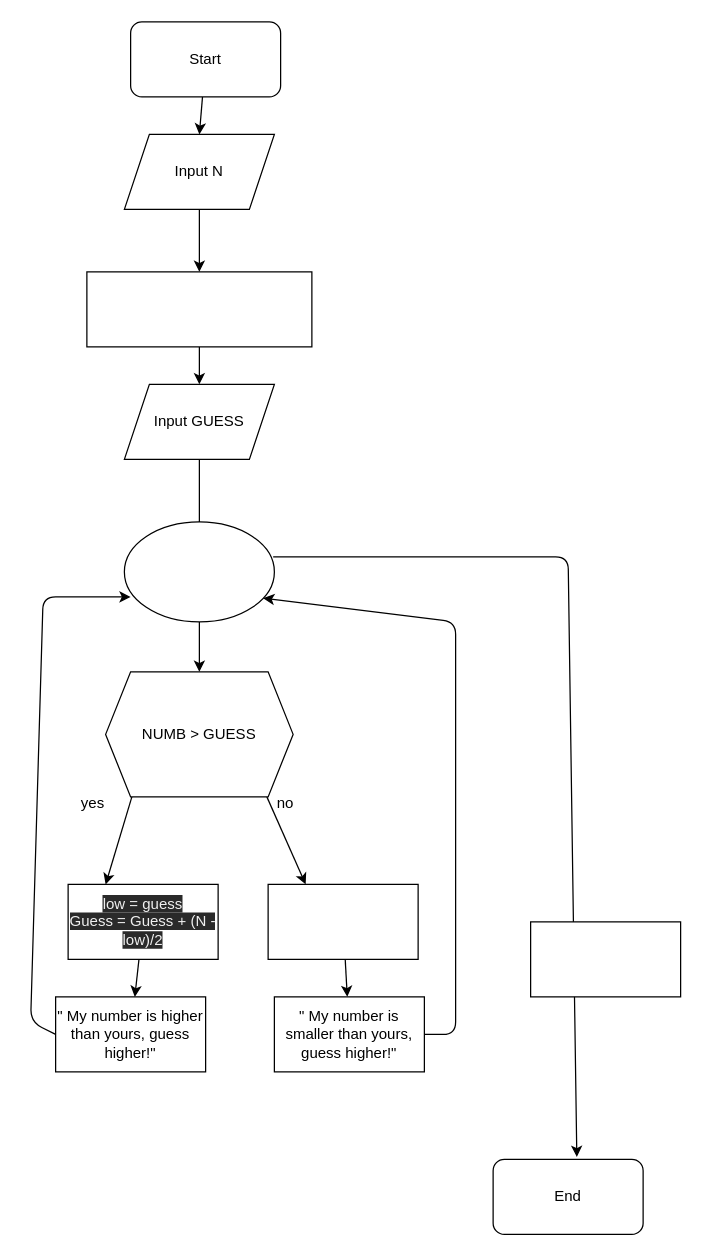
Some shapes in this 703 by 1256 pixel diagram are drawn without their labels. Here are the shapes that lost their labels. From the top down, the centre of each, then its label:
the point at 199,309: NUMB = random NUMB (1-N)
the point at 198,571: Until NUMB = GUESS
the point at 342,921: high = guess Guess = Guess (N - high)/2
the point at 605,959: “You are correct - the random number is ...”
